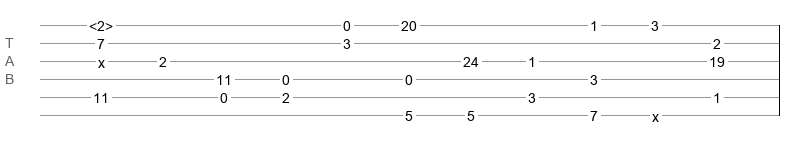0: (220, 90, 228, 100), (282, 72, 290, 82), (343, 18, 351, 28), (405, 72, 413, 82)
1: (528, 54, 536, 64), (590, 18, 598, 28), (713, 90, 721, 100)
11: (93, 90, 109, 100), (216, 72, 232, 82)
19: (709, 54, 725, 64)
2: (159, 54, 167, 64), (282, 90, 290, 100), (713, 36, 721, 46)
20: (401, 18, 417, 28)
24: (463, 54, 479, 64)
3: (343, 36, 351, 46), (528, 90, 536, 100), (590, 72, 598, 82), (651, 18, 659, 28)
5: (405, 108, 413, 118), (467, 108, 475, 118)
7: (97, 36, 105, 46), (590, 108, 598, 118)
harmonic: (89, 18, 113, 28)
x: (98, 55, 105, 63), (652, 109, 659, 117)
